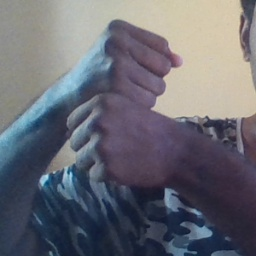G: (64, 17, 185, 194)
